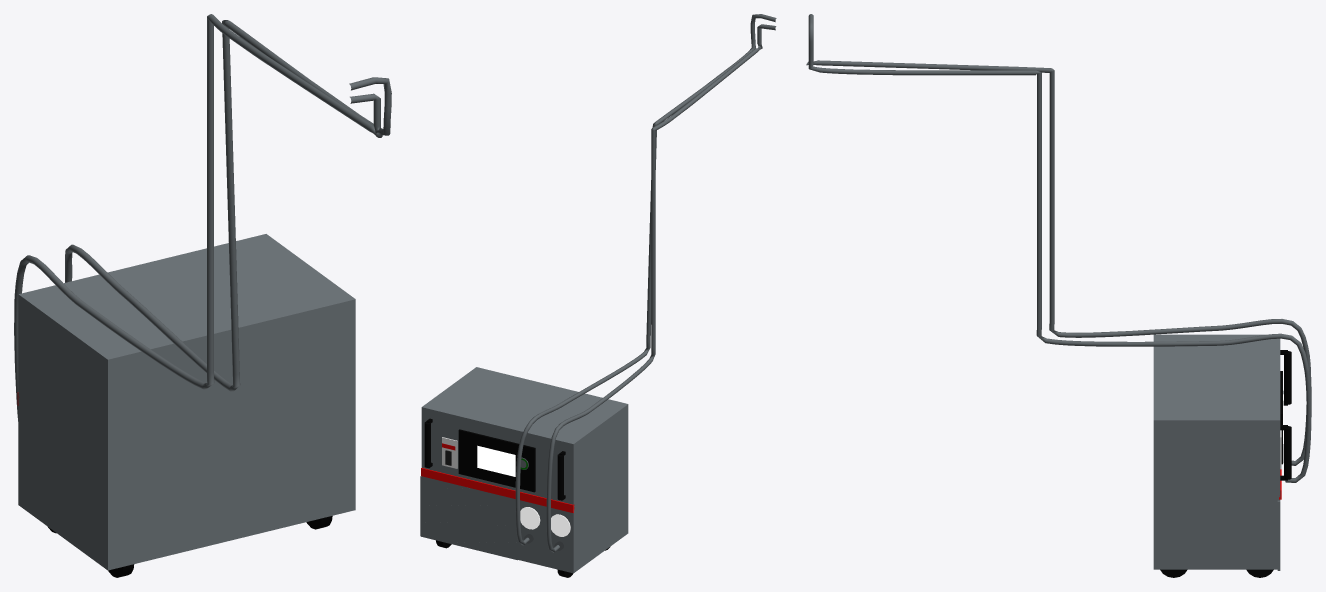
The model's file is CompressorKTX2.glb.
3 views of the same model, side by side, from view 1: azimuth 30°, elevation 25°; view 2: azimuth 150°, elevation 25°; view 3: azimuth 270°, elevation 25° (orthographic). The views are drawn at different scales.
Bounding box in the file's own units: 8.08 × 21.12 × 19.93.
